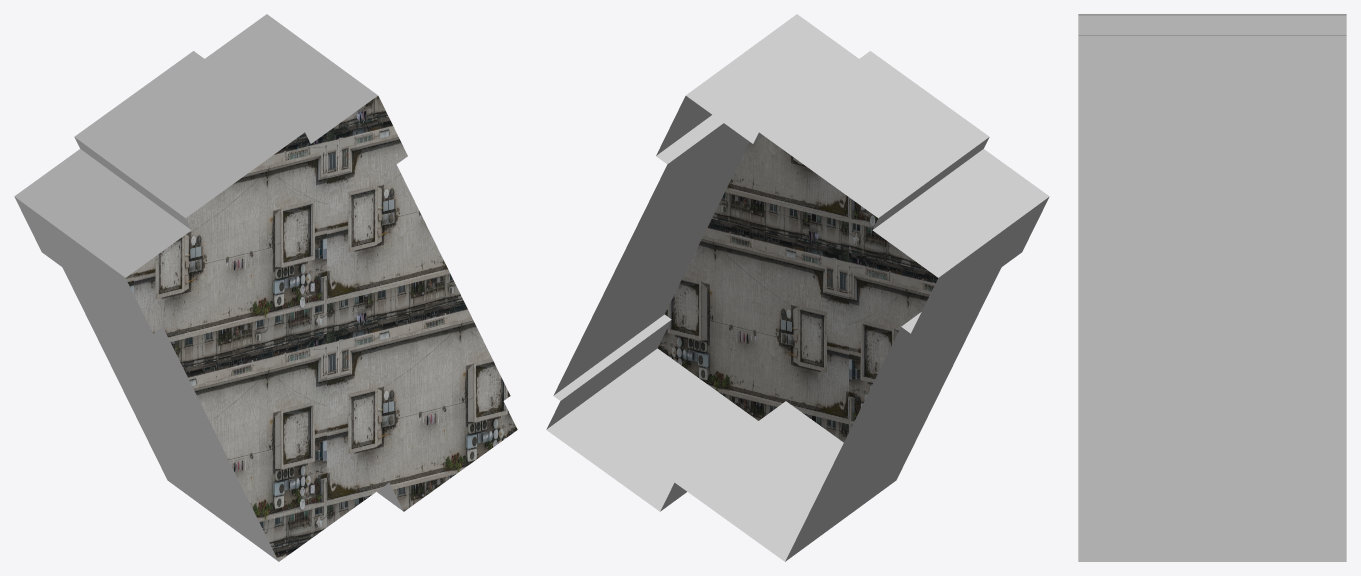
Rendered from geospecific_1478.obj.
3 views of the same model, side by side, from view 1: azimuth 30°, elevation 25°; view 2: azimuth 150°, elevation 25°; view 3: azimuth 270°, elevation 25° (orthographic). The views are drawn at different scales.
Visible parts, largest first — view 1: Building; view 2: Building; view 3: Building.
Part boxes in pixels (box(x1,y1,x2,y2)): Building: box(14, 14, 517, 561); Building: box(546, 14, 1049, 561); Building: box(1078, 14, 1346, 561).
Size of the model in its own units: 24.4 by 26.29 by 12.
